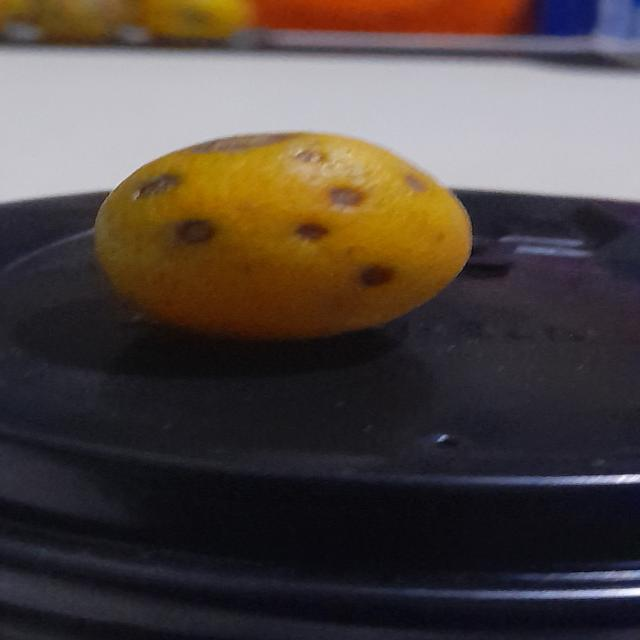black spot: (87, 130, 477, 338)
